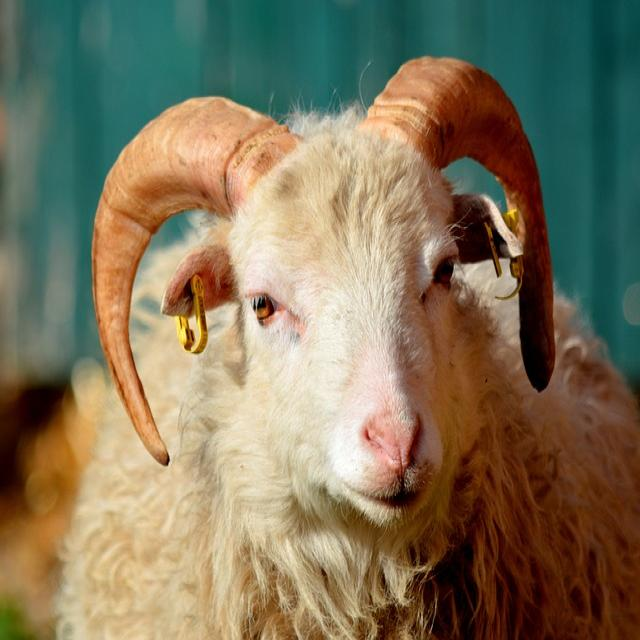goat: (23, 56, 640, 640)
